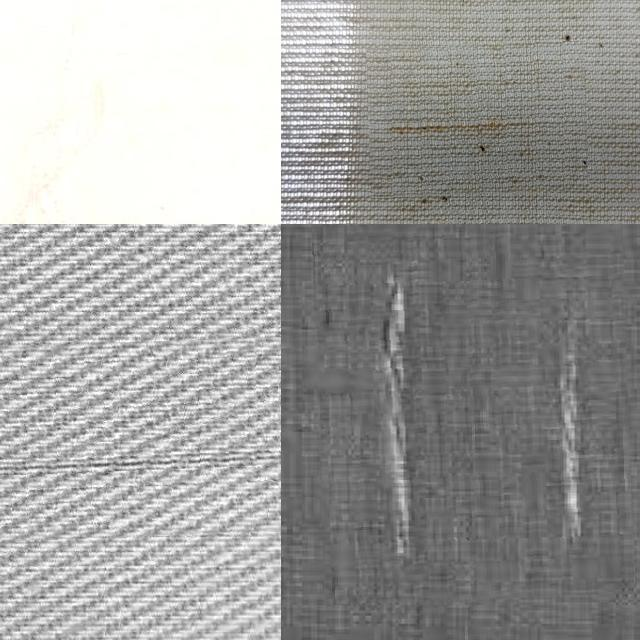Thread_other: (314, 224, 632, 601), (0, 336, 281, 542), (368, 42, 588, 194)
